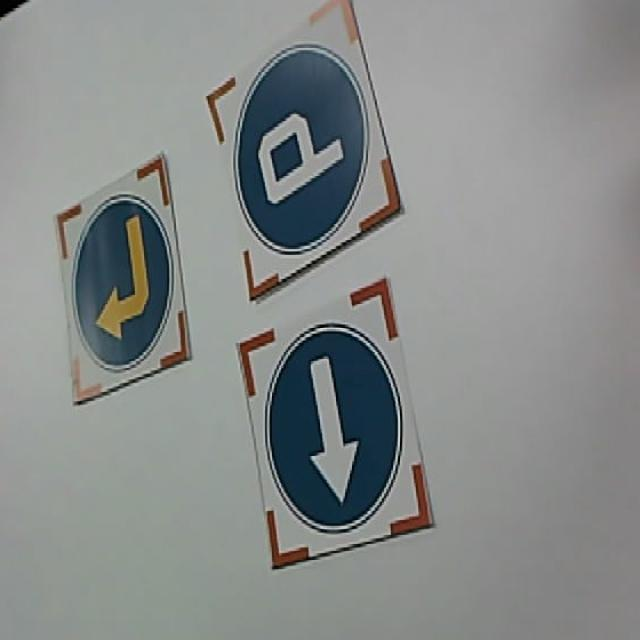parking: (207, 0, 404, 297)
straight: (235, 284, 442, 570)
turn: (54, 152, 195, 412)
